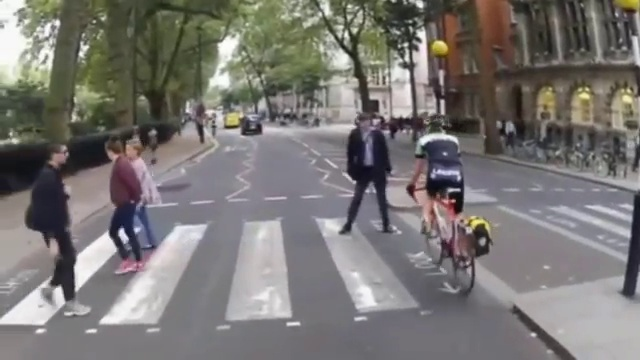cyclist_back: (405, 108, 495, 298)
